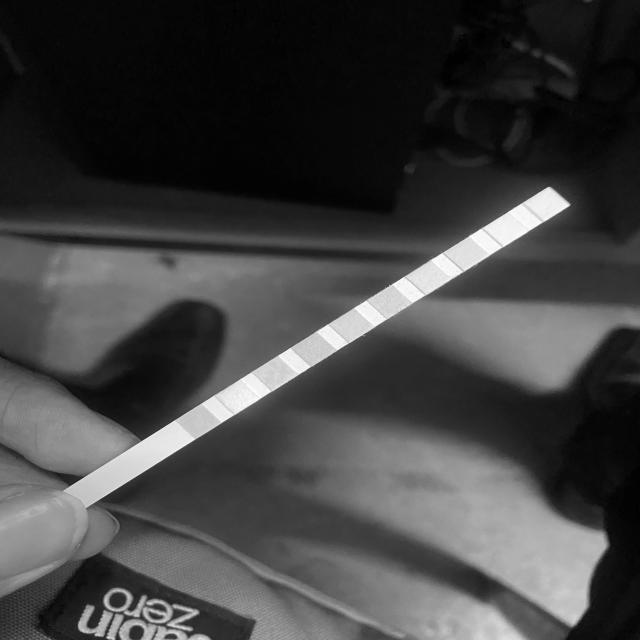Bilirubin: (225, 389, 249, 406)
Blood: (338, 318, 364, 334)
Glucose: (187, 412, 210, 431)
Ketone: (263, 365, 287, 382)
Leukocytes: (536, 195, 558, 213)
Nitrite: (494, 221, 518, 238)
Protein: (417, 269, 440, 287)
SpGravity: (301, 341, 326, 358)
Urobilinogen: (454, 246, 478, 264)
background: (0, 0, 640, 640)
pH: (378, 293, 402, 311)
strip: (64, 187, 572, 508)
